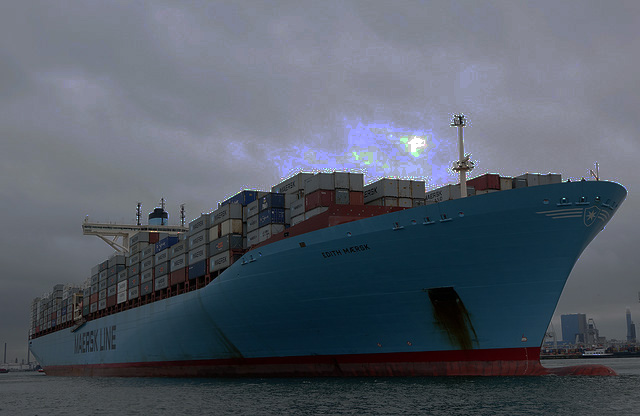container_ship: (28, 112, 625, 376)
